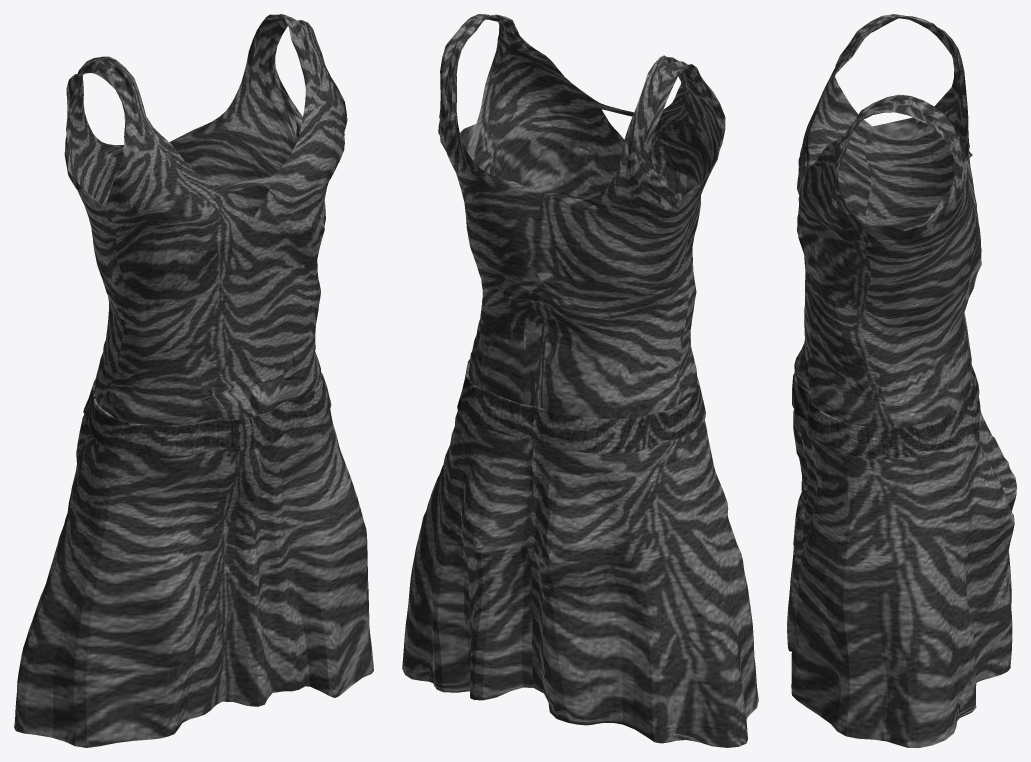
Rendered from mhw_toigo_keyhole_neck_dress.glb.
The picture shows the model from 3 angles, left to right: view 1: azimuth 30°, elevation 25°; view 2: azimuth 150°, elevation 25°; view 3: azimuth 270°, elevation 25°; orthographic projection. The views are drawn at different scales.
Visible parts, largest first — view 1: mhw_toigo_keyhole_neck_dress; view 2: mhw_toigo_keyhole_neck_dress; view 3: mhw_toigo_keyhole_neck_dress.
Boxes of the visible parts, x1,y1,x2,y2 form: mhw_toigo_keyhole_neck_dress: [14, 14, 373, 747]; mhw_toigo_keyhole_neck_dress: [402, 14, 758, 747]; mhw_toigo_keyhole_neck_dress: [787, 14, 1016, 747].
Bounding box in the file's own units: 0.5569 × 1.03 × 0.3467.
Materials: 1 (1 with a texture image).
